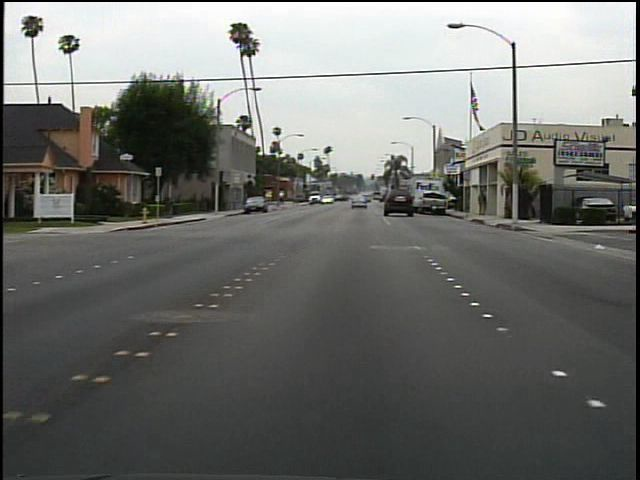person: (475, 187, 493, 219)
